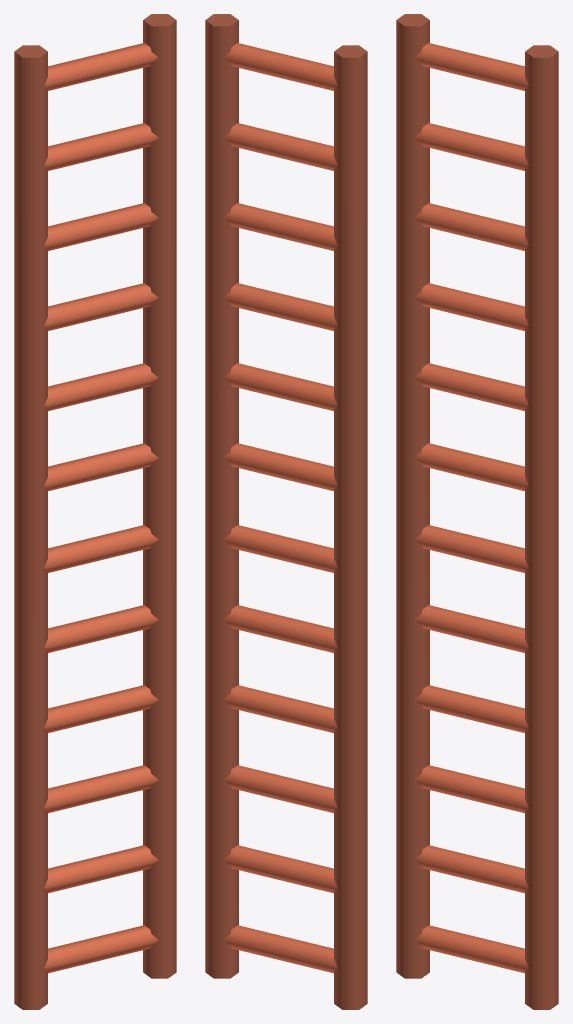
The model's file is ladder_002.glb.
The picture shows the model from 3 angles, left to right: view 1: azimuth 30°, elevation 25°; view 2: azimuth 150°, elevation 25°; view 3: azimuth 330°, elevation 25°; orthographic projection.
Parts seen in each view (by area): view 1: ladder_002; view 2: ladder_002; view 3: ladder_002.
Boxes of the visible parts, box(x1,y1,x2,y2) form: ladder_002: box(14, 14, 176, 1009); ladder_002: box(205, 14, 367, 1009); ladder_002: box(396, 14, 558, 1009).
Size of the model in its own units: 0.6759 by 4 by 0.1271.
Materials: 1 (1 with a texture image).
